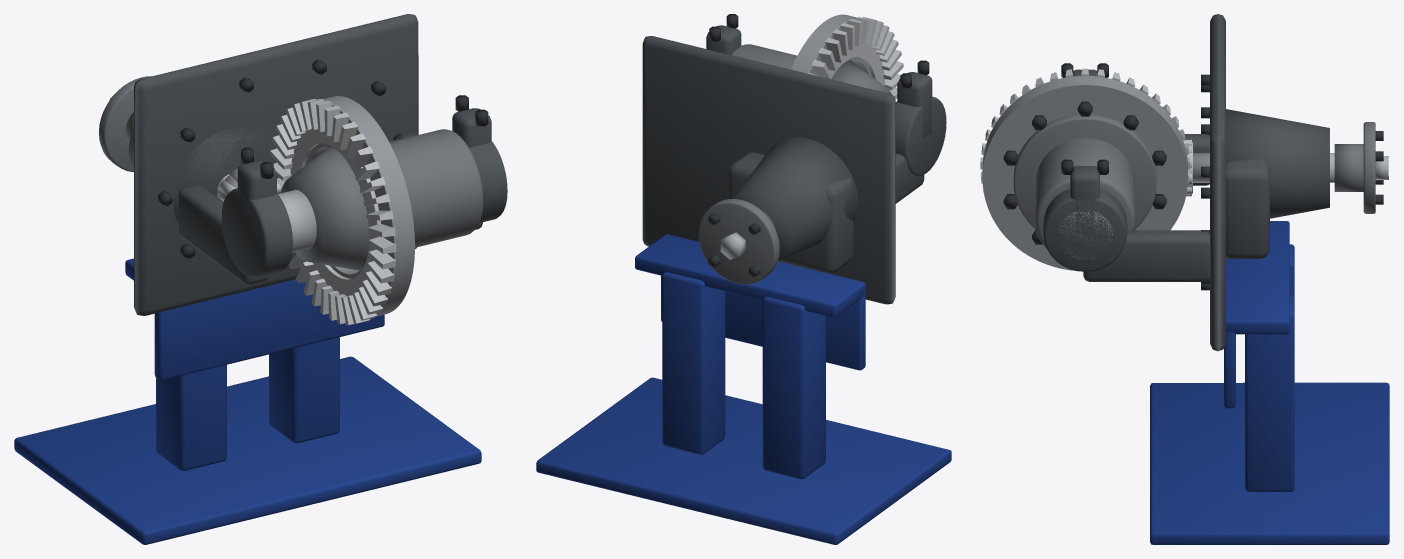
File: diff-carrier.glb
3 views of the same model, side by side, from view 1: azimuth 30°, elevation 25°; view 2: azimuth 150°, elevation 25°; view 3: azimuth 270°, elevation 25° (orthographic). The views are drawn at different scales.
Parts seen in each view (by area): view 1: Stand, Housing, RingGear, Pinion; view 2: Stand, Housing, RingGear, Pinion; view 3: Stand, Housing, RingGear, Pinion.
Part boxes in pixels (bbox=[...]): Stand: bbox=[14, 258, 481, 544]; Housing: bbox=[128, 14, 507, 315]; RingGear: bbox=[269, 96, 483, 325]; Pinion: bbox=[99, 76, 281, 201]; Stand: bbox=[536, 234, 951, 544]; Housing: bbox=[642, 14, 946, 304]; RingGear: bbox=[731, 14, 903, 102]; Pinion: bbox=[698, 199, 779, 284]; Stand: bbox=[1150, 221, 1389, 544]; Housing: bbox=[1043, 14, 1329, 351]; RingGear: bbox=[980, 68, 1190, 270]; Pinion: bbox=[1183, 122, 1388, 213].
Bounding box in the file's own units: 0.3601 × 0.438 × 0.41.
